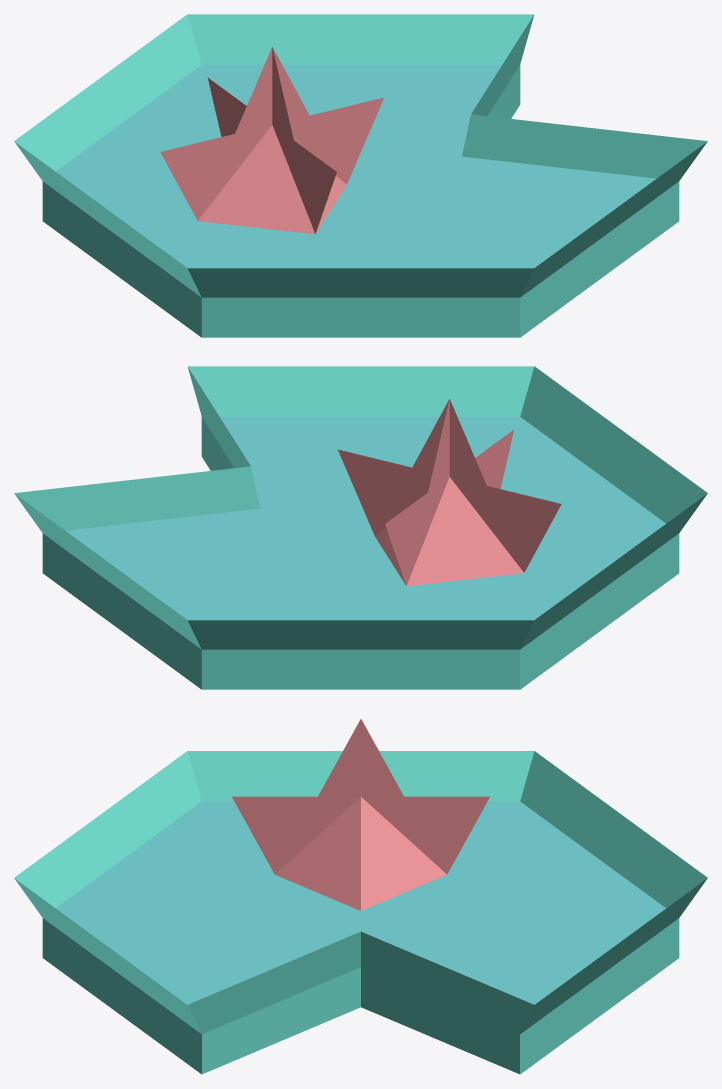
Rendered from water_lily.glb.
The picture shows the model from 3 angles, top to bottom: view 1: azimuth 30°, elevation 25°; view 2: azimuth 150°, elevation 25°; view 3: azimuth 270°, elevation 25°; orthographic projection.
Visible parts, largest first — view 1: lily_large; view 2: lily_large; view 3: lily_large.
Boxes of the visible parts, x1,y1,x2,y2 form: lily_large: (14,14,707,337); lily_large: (14,366,707,689); lily_large: (14,719,707,1074).
Size of the model in its own units: 0.2719 by 0.098 by 0.3139.
